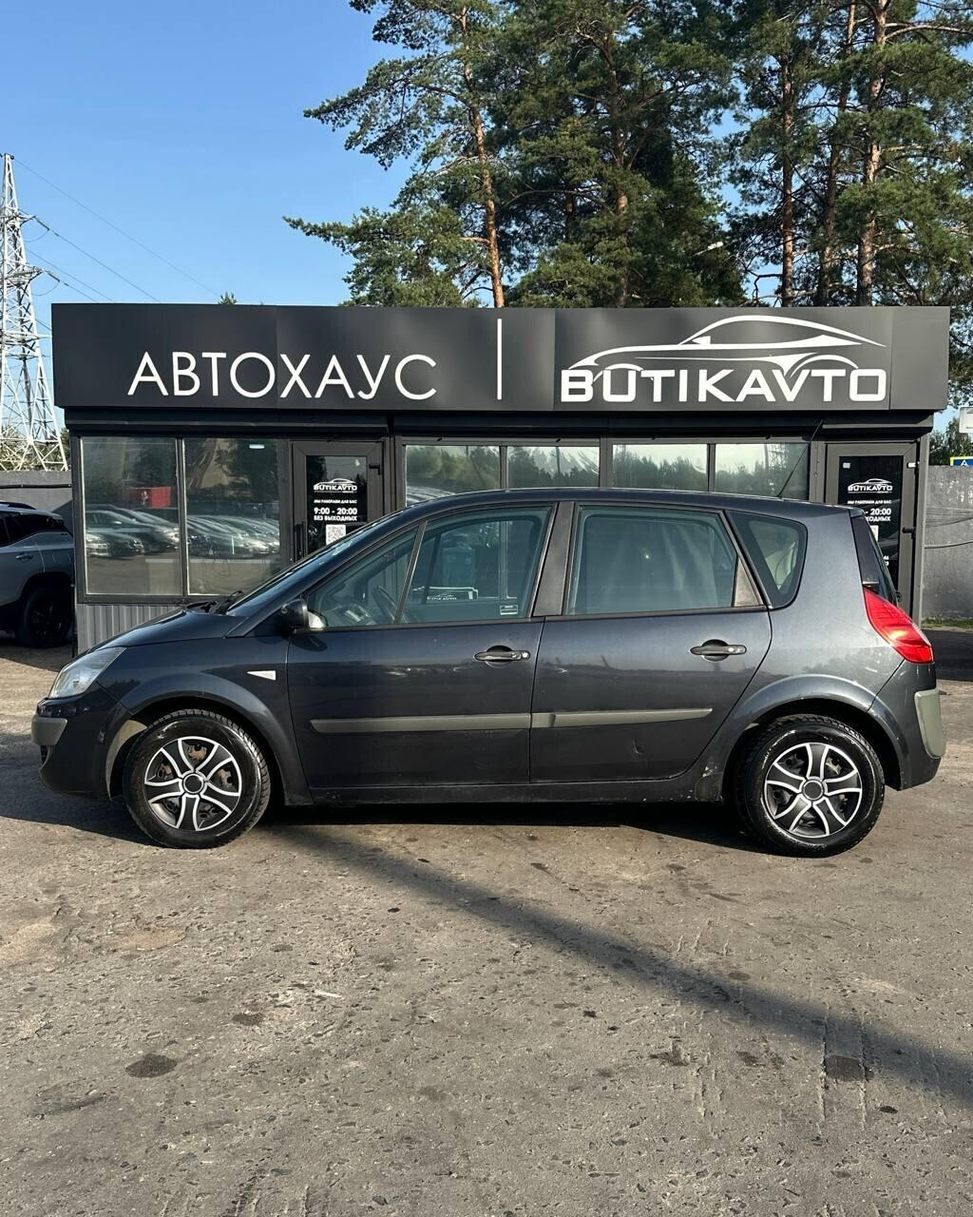Megane_2005-2009: (25, 472, 930, 873)
